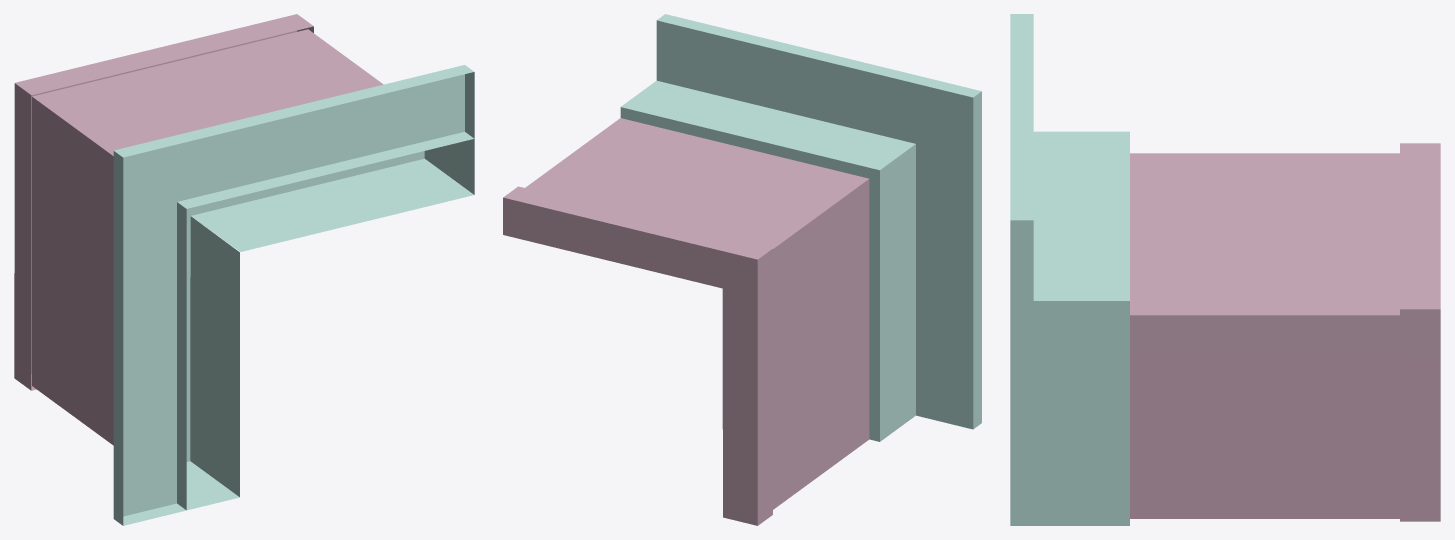
3 views of the same model, side by side, from view 1: azimuth 30°, elevation 25°; view 2: azimuth 150°, elevation 25°; view 3: azimuth 270°, elevation 25° (orthographic). The views are drawn at different scales.
Parts seen in each view (by area): view 1: Object77; view 2: Object77; view 3: Object77.
Part boxes in pixels (left/top/right/bottom): Object77: left=14, top=14, right=474, bottom=525; Object77: left=503, top=14, right=981, bottom=525; Object77: left=1010, top=14, right=1440, bottom=525.
Size of the model in its own units: 30104 by 30077 by 26420.
